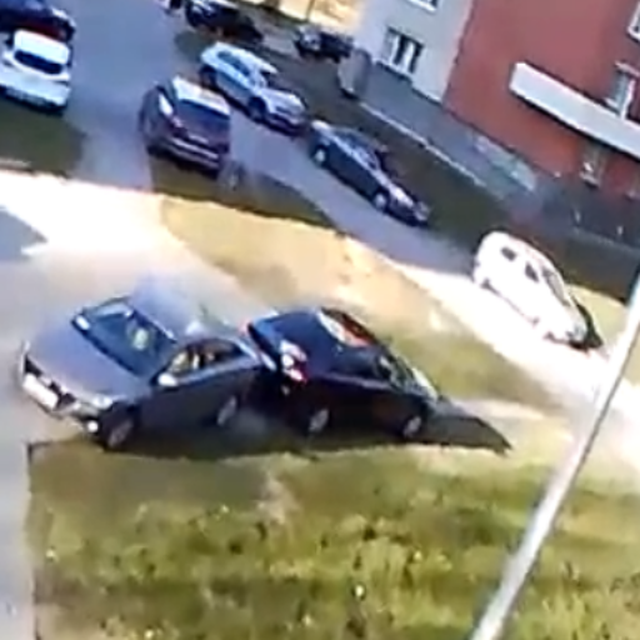car: (14, 288, 260, 451), (243, 305, 439, 443), (306, 118, 429, 227), (469, 231, 590, 341), (199, 42, 308, 132), (139, 74, 232, 177), (1, 26, 72, 112), (188, 1, 266, 45), (292, 25, 362, 62)
